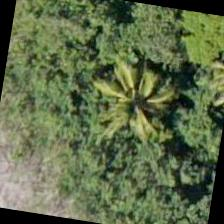Kelapa_Sawit: (90, 45, 194, 148), (173, 30, 223, 129)
